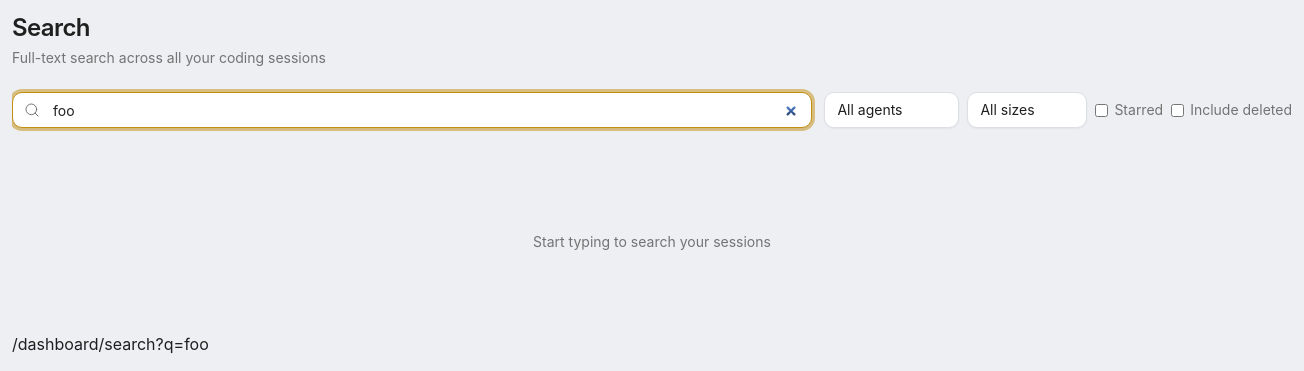
Scenario: SearchPage › URL clears when query is cleared
The width and height of the screenshot is (1304, 371).
Clear the search field with test id "search-input" at [412, 110], box 12,92 -> 812,128
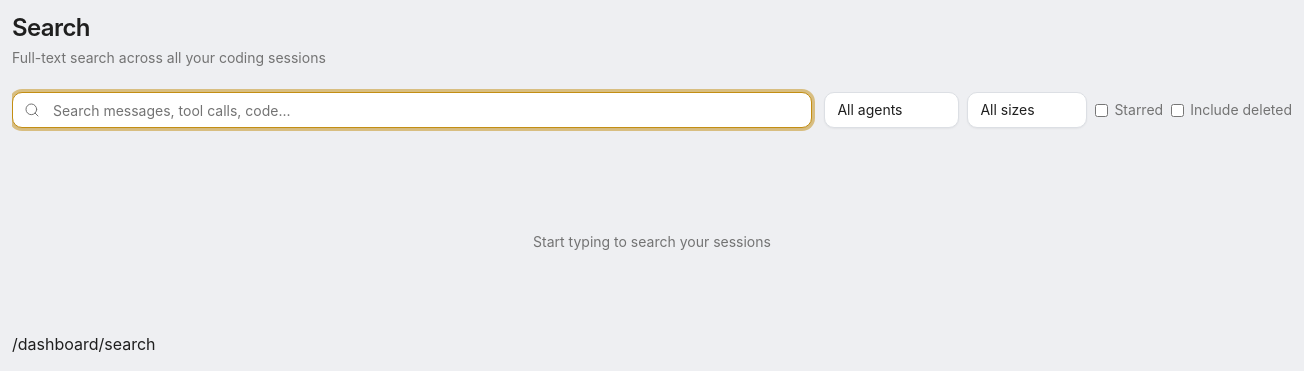
Expected: the text "Start typing to search your sessions" is shown, 533,233 -> 771,250
Now the text with test id "location" no longer shows "q="
